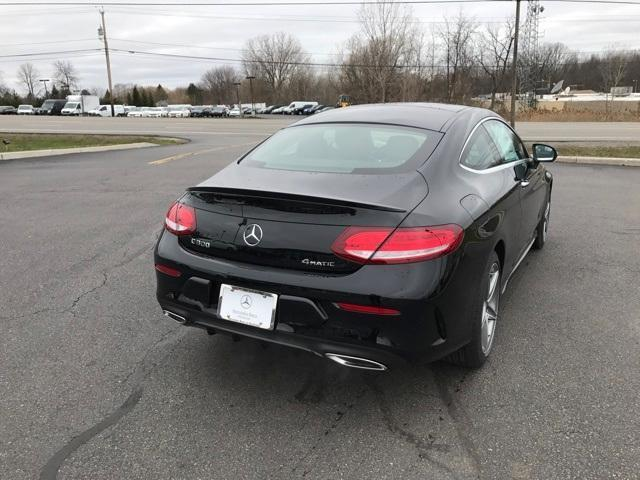C300Coupe: (137, 90, 564, 376)
